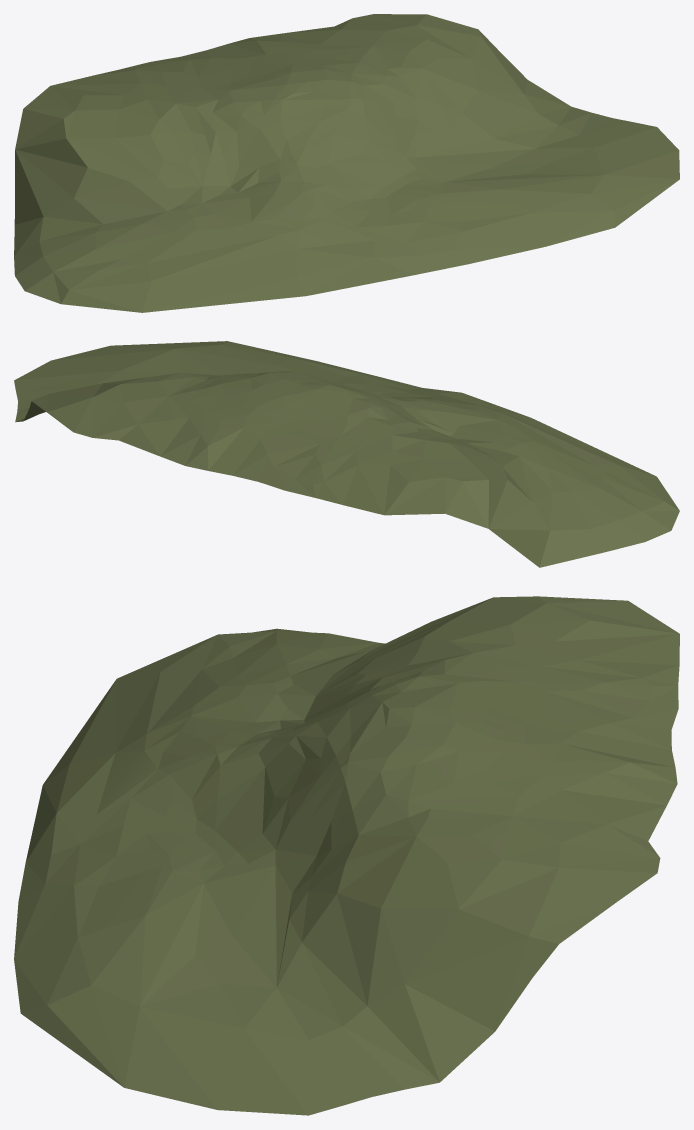
File: kingdom_SM_Generic_Ground_08.gltf
The picture shows the model from 3 angles, top to bottom: view 1: azimuth 30°, elevation 25°; view 2: azimuth 150°, elevation 25°; view 3: azimuth 270°, elevation 25°; orthographic projection. The views are drawn at different scales.
Visible parts, largest first — view 1: SM_Generic_Ground_08; view 2: SM_Generic_Ground_08; view 3: SM_Generic_Ground_08.
Boxes of the visible parts, box(x1,y1,x2,y2) form: SM_Generic_Ground_08: box(14, 14, 679, 312); SM_Generic_Ground_08: box(14, 341, 679, 567); SM_Generic_Ground_08: box(14, 596, 679, 1115).
Bounding box in the file's own units: 30.7 × 4.52 × 17.75.
1 material, 1 textured.
